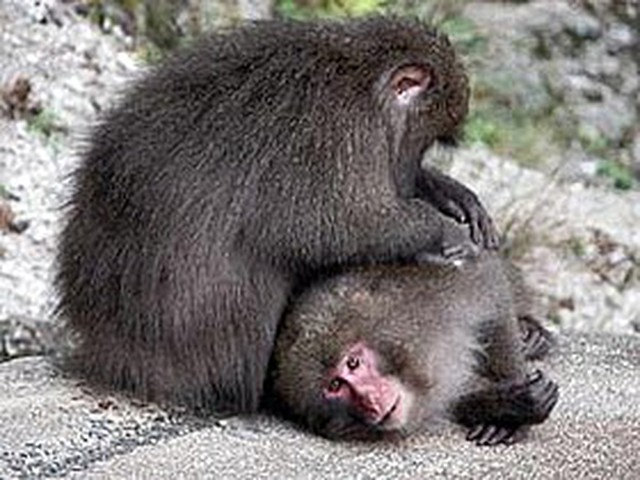Monkey: (44, 10, 579, 443)
